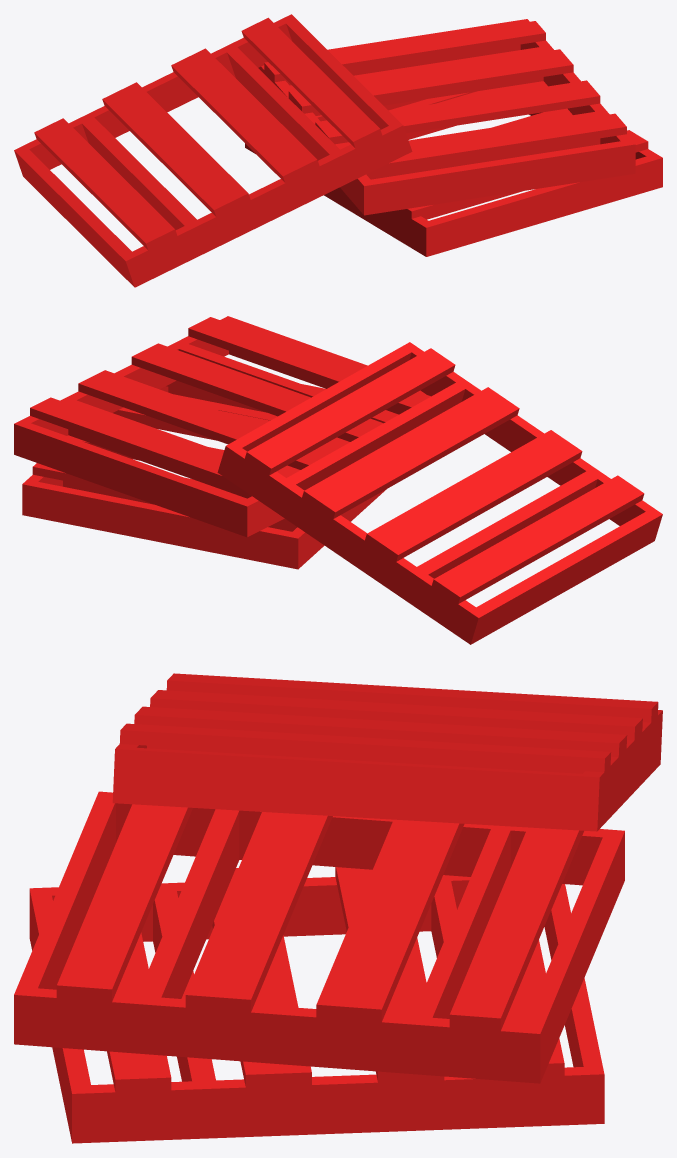
The model's file is pallets.FBX.
3 renders of one model, top to bottom at view 1: azimuth 30°, elevation 25°; view 2: azimuth 150°, elevation 25°; view 3: azimuth 270°, elevation 25°, orthographic. The views are drawn at different scales.
Visible parts, largest first — view 1: pallet_Pile; view 2: pallet_Pile; view 3: pallet_Pile.
Boxes of the visible parts, x1=… form: pallet_Pile: x1=14, y1=14, x2=662, y2=287; pallet_Pile: x1=14, y1=316, x2=662, y2=644; pallet_Pile: x1=14, y1=673, x2=662, y2=1143.
Bounding box in the file's own units: 85.51 × 18.73 × 55.86.
